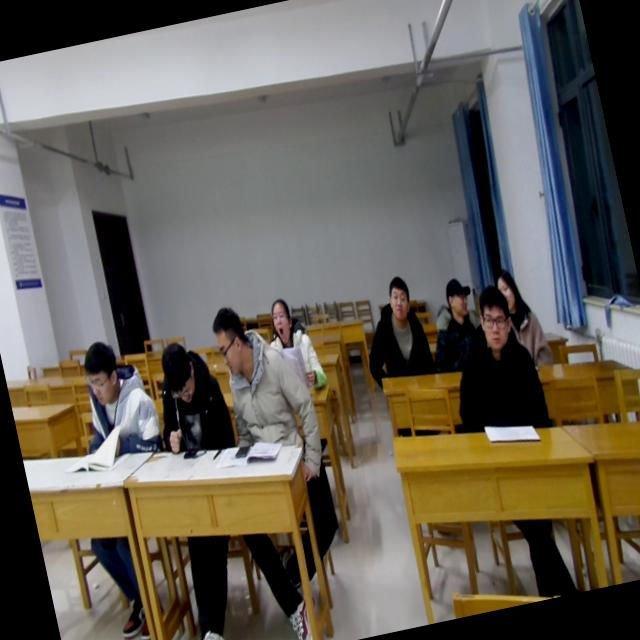down: (76, 334, 128, 413), (151, 335, 201, 408)
lookup: (468, 278, 516, 352), (262, 291, 298, 351), (380, 270, 417, 324), (489, 263, 524, 316)
sit: (434, 277, 554, 443), (206, 292, 322, 458), (64, 332, 166, 468), (142, 333, 236, 461), (351, 272, 438, 388), (416, 272, 493, 374), (258, 290, 329, 400), (488, 261, 556, 374)
